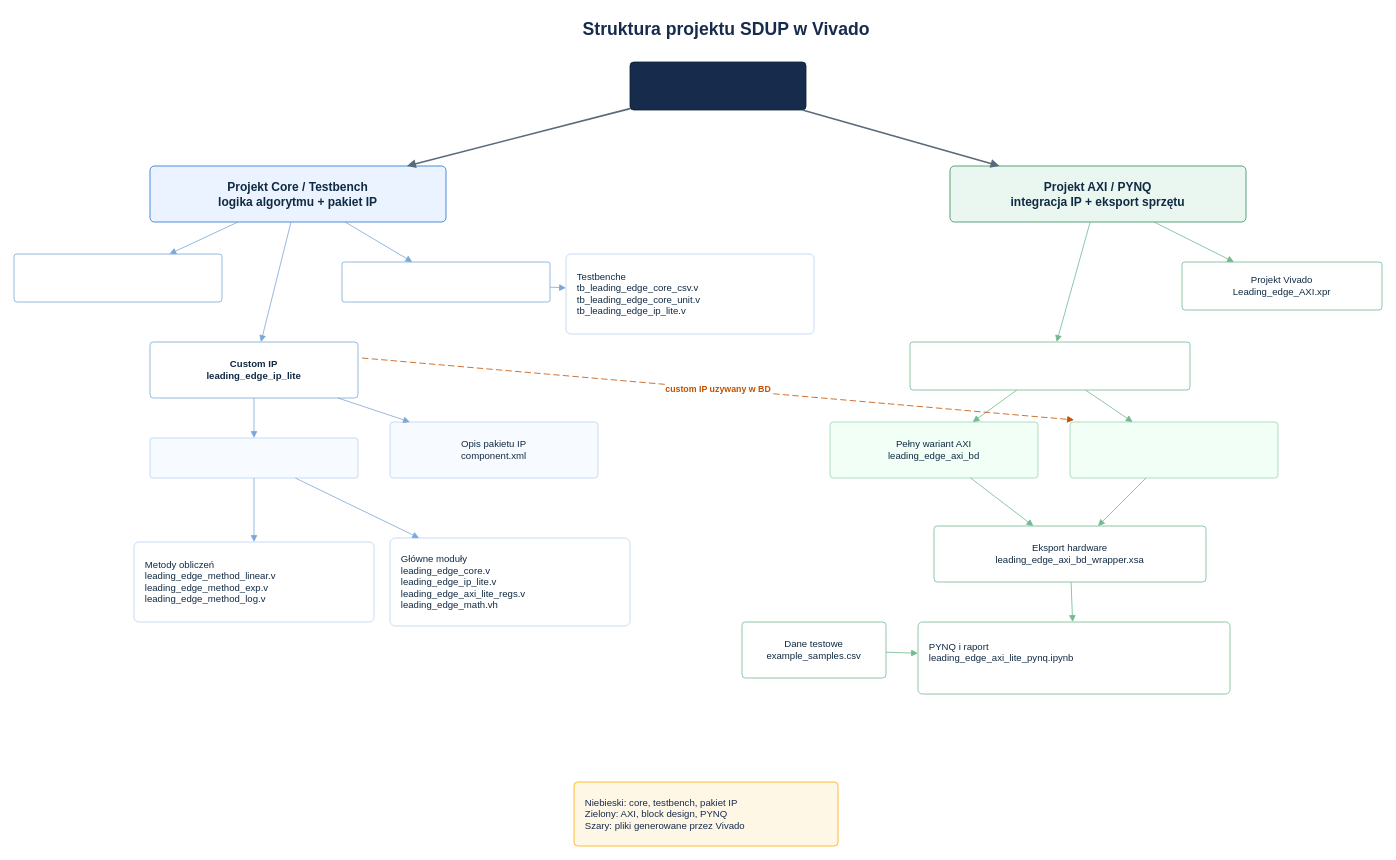
This 1396x860 diagram has some shape labels left out. The shapes that lost their labels are listed below. From the top down, each one's centre as x and y in pixels, then its label:
the point at 717,85: Vivado
the point at 117,277: Projekt Vivado Leading_edge_core_TB.xpr
the point at 445,281: Symulacja
the point at 1049,365: Block design
the point at 253,457: Źródła HDL IP
the point at 1173,449: Wariant AXI-Lite leading_edge_axi_lite_bd
